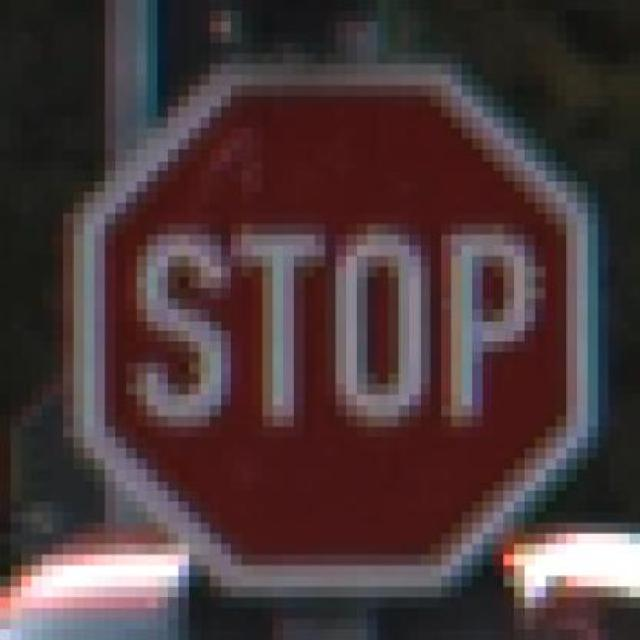Stop_Sign: (10, 42, 619, 608)
